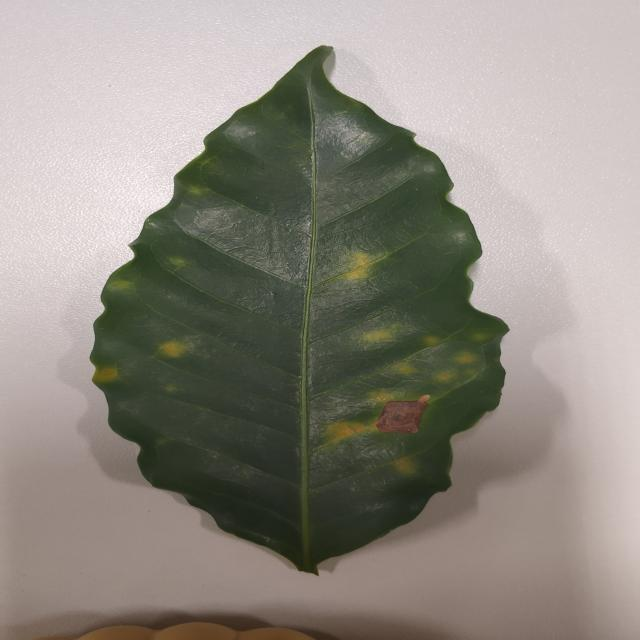Enfermedad-Roya: (88, 45, 510, 576)
